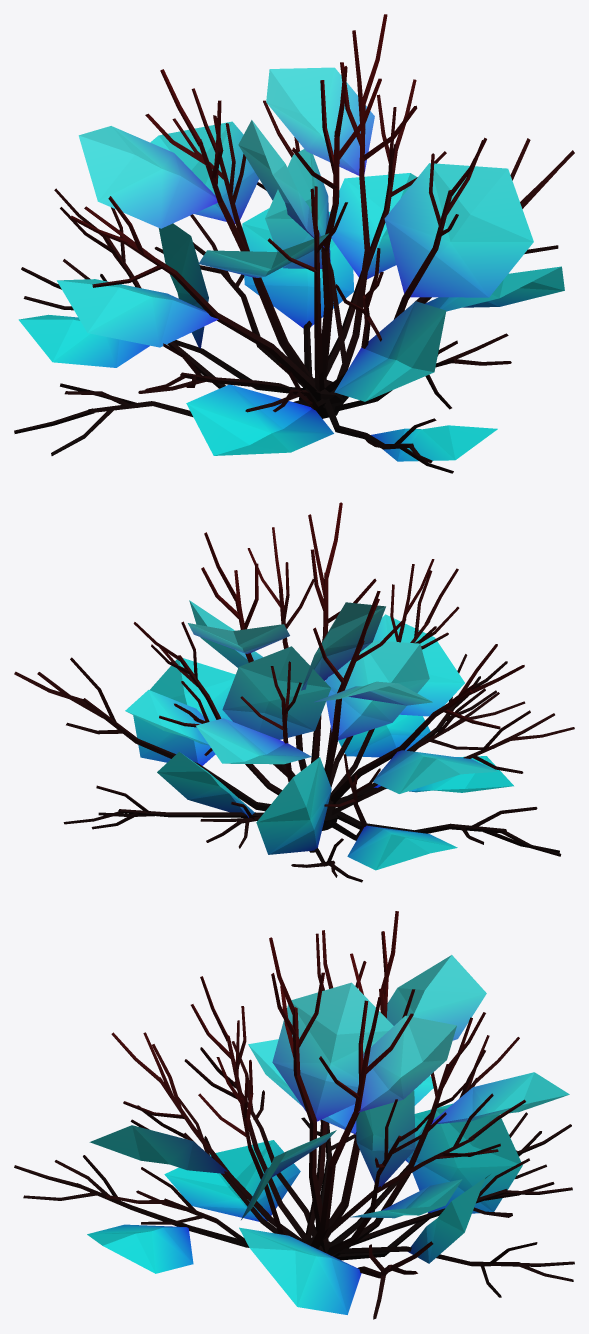
File: SM_Env_Bush_Bramble_01.fbx
3 views of the same model, one above another, from view 1: azimuth 30°, elevation 25°; view 2: azimuth 150°, elevation 25°; view 3: azimuth 270°, elevation 25° (orthographic). The views are drawn at different scales.
Visible parts, largest first — view 1: SM_Env_Bush_Bramble_01_LOD0; view 2: SM_Env_Bush_Bramble_01_LOD0; view 3: SM_Env_Bush_Bramble_01_LOD0.
Boxes of the visible parts, box(x1,y1,x2,y2) form: SM_Env_Bush_Bramble_01_LOD0: box(14, 14, 574, 473); SM_Env_Bush_Bramble_01_LOD0: box(14, 502, 574, 882); SM_Env_Bush_Bramble_01_LOD0: box(14, 911, 574, 1319).
Size of what is drawn, in the model's own units: 283 by 165 by 251.
